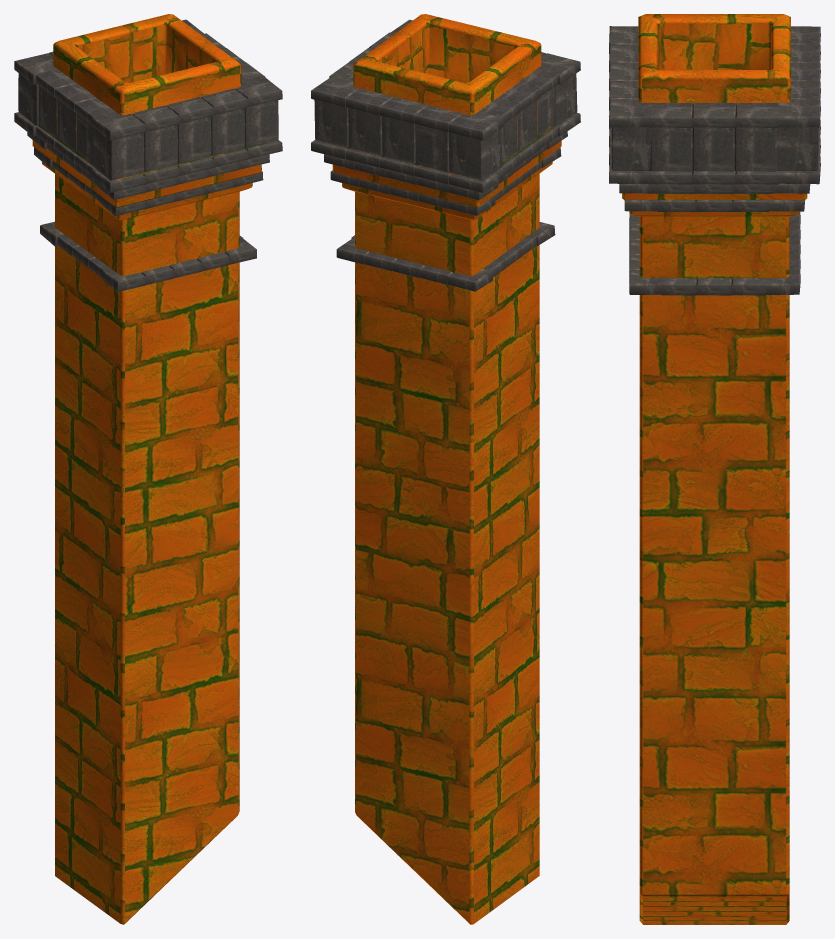
The model's file is SM_Chimney_Pipe_01.fbx.
3 renders of one model, left to right at view 1: azimuth 30°, elevation 25°; view 2: azimuth 150°, elevation 25°; view 3: azimuth 270°, elevation 25°, orthographic. The views are drawn at different scales.
Parts seen in each view (by area): view 1: SM_Chimney_Pipe_01_LOD0; view 2: SM_Chimney_Pipe_01_LOD0; view 3: SM_Chimney_Pipe_01_LOD0.
Boxes of the visible parts, left/top/right/bottom form: SM_Chimney_Pipe_01_LOD0: left=14, top=14, right=282, bottom=924; SM_Chimney_Pipe_01_LOD0: left=311, top=14, right=580, bottom=924; SM_Chimney_Pipe_01_LOD0: left=609, top=14, right=820, bottom=924.
Bounding box in the file's own units: 150 × 145 × 686.
2 materials, 2 textured.
